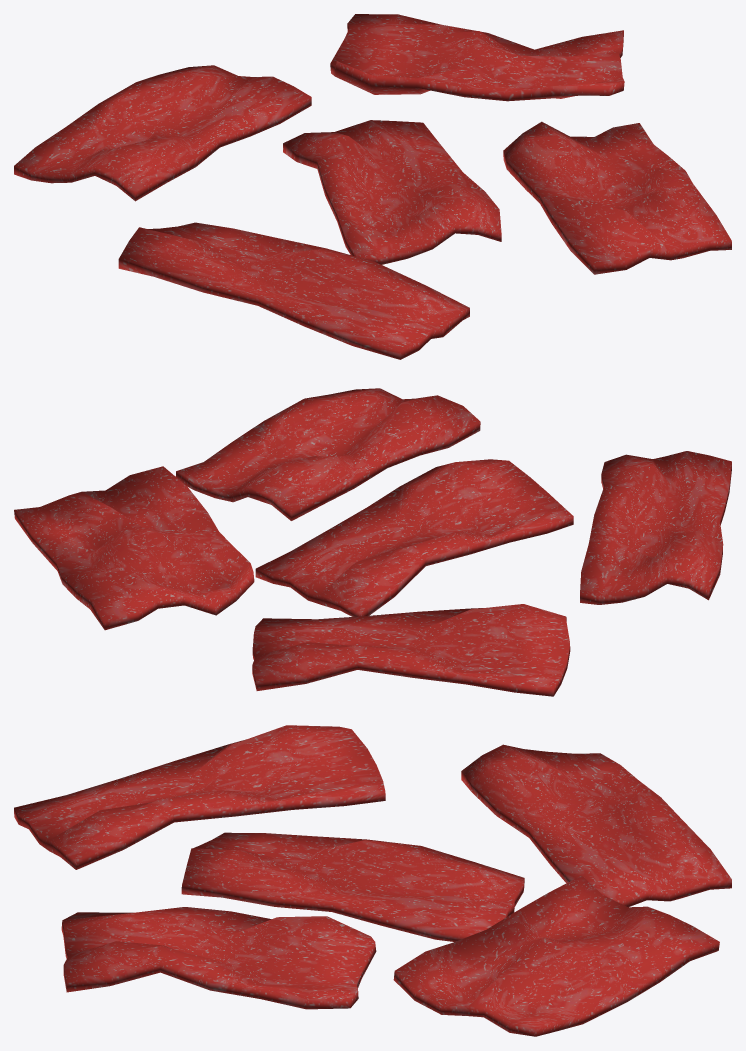
Rendered from yakiniku_00_c.glb.
3 views of the same model, one above another, from view 1: azimuth 30°, elevation 25°; view 2: azimuth 150°, elevation 25°; view 3: azimuth 270°, elevation 25° (orthographic). The views are drawn at different scales.
Parts seen in each view (by area): view 1: yakiniku; view 2: yakiniku; view 3: yakiniku.
Part boxes in pixels (left/top/right/bottom): yakiniku: left=14, top=14, right=731, bottom=359; yakiniku: left=14, top=388, right=731, bottom=696; yakiniku: left=14, top=725, right=731, bottom=1036.
Size of the model in its own units: 0.1823 by 0.0146 by 0.1811.
Materials: 1 (1 with a texture image).
